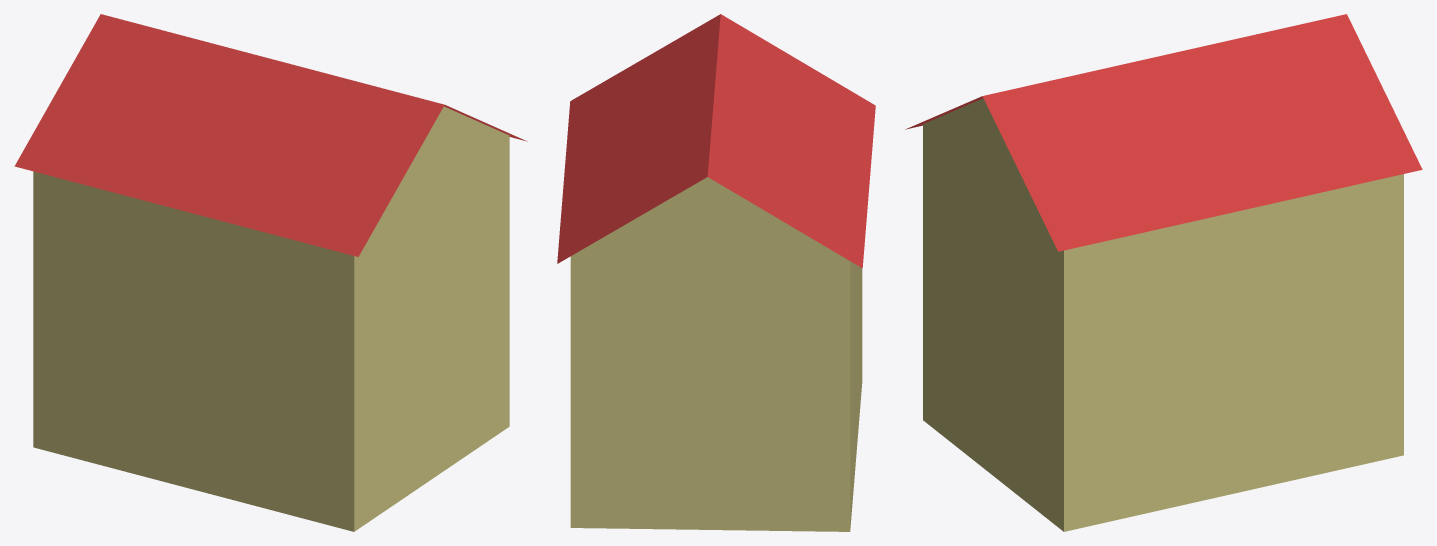
The picture shows the model from 3 angles, left to right: view 1: azimuth 30°, elevation 25°; view 2: azimuth 150°, elevation 25°; view 3: azimuth 270°, elevation 25°; orthographic projection. The views are drawn at different scales.
Bounding box in the file's own units: 17.46 × 18.74 × 15.3.
